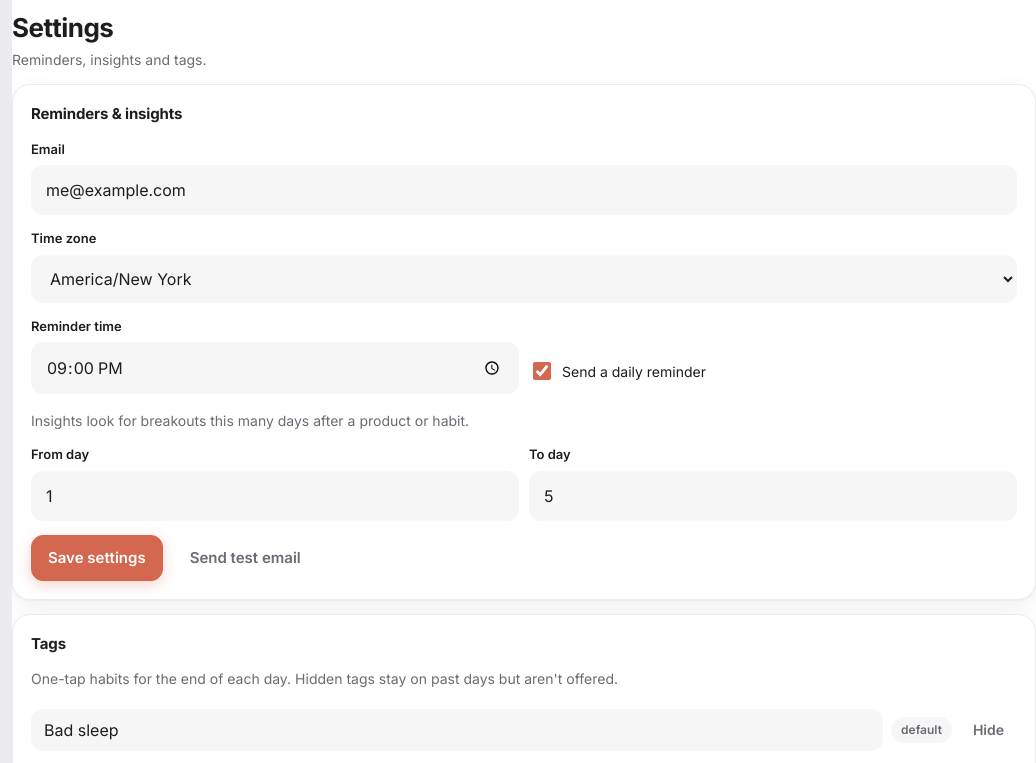
Test case: SettingsScreen reminders & insights › sends only what changed
The image size is (1036, 763).
Replace the text in the number field labelled "From day" with "2" at (275, 496), box top-left (31, 470), bottom-right (519, 520)
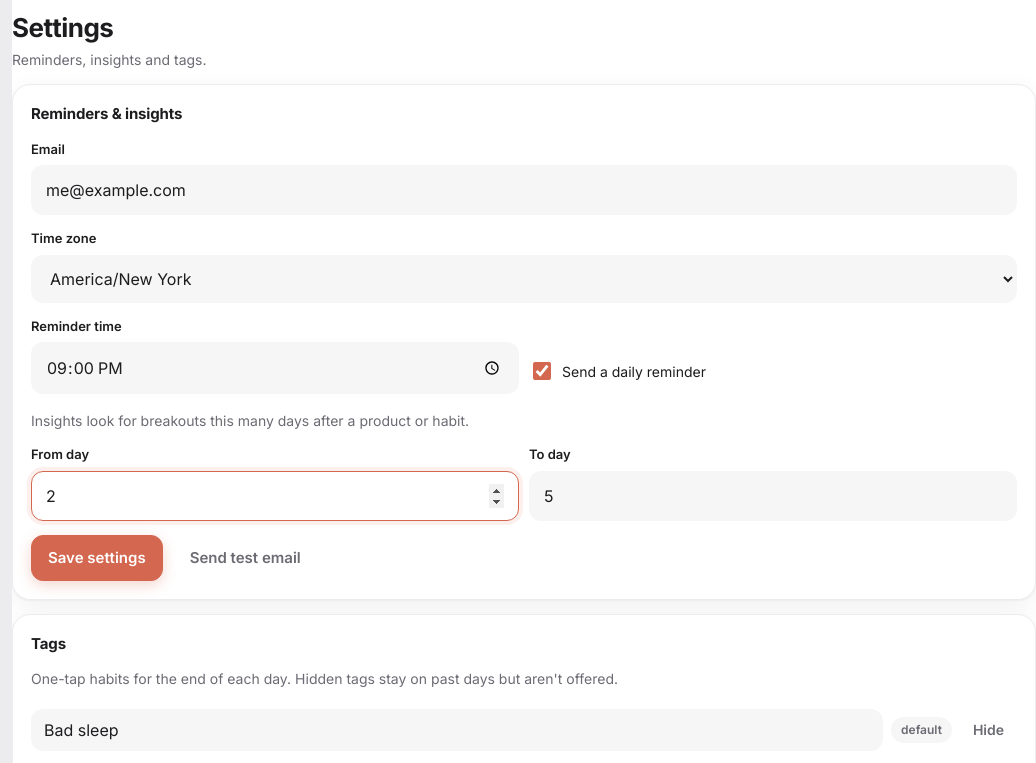
Replace the text in the number field labelled "To day" with "4" at (773, 496), box top-left (529, 470), bottom-right (1017, 520)
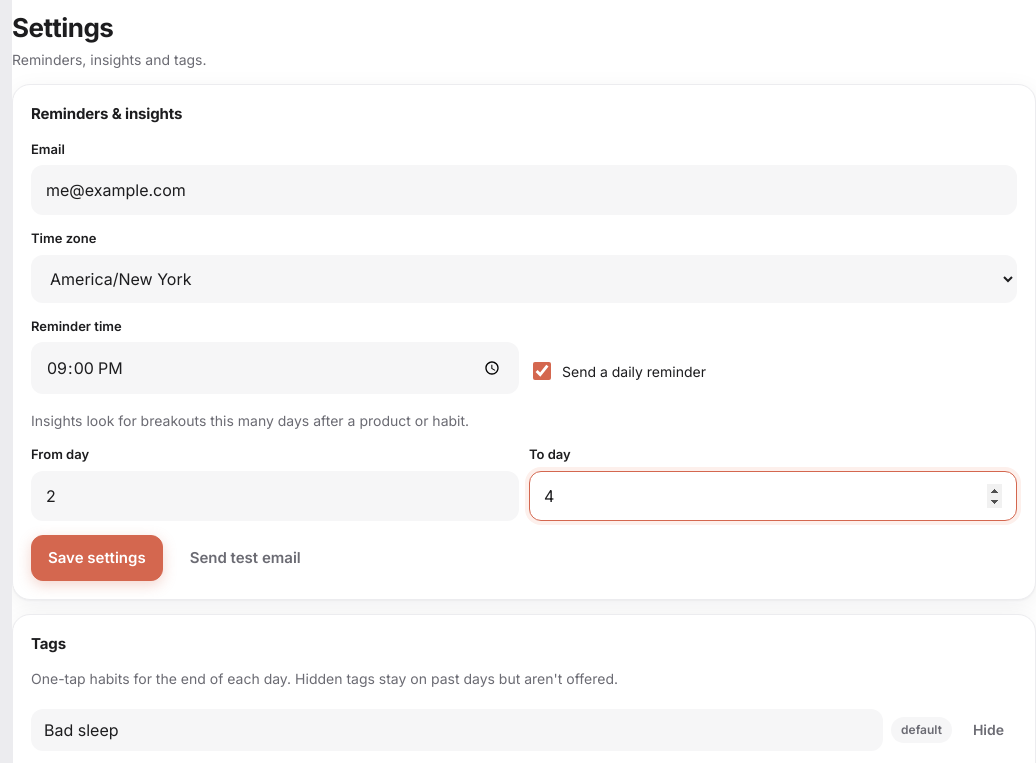
Click the button "Save settings" at (97, 558), box top-left (31, 534), bottom-right (163, 581)
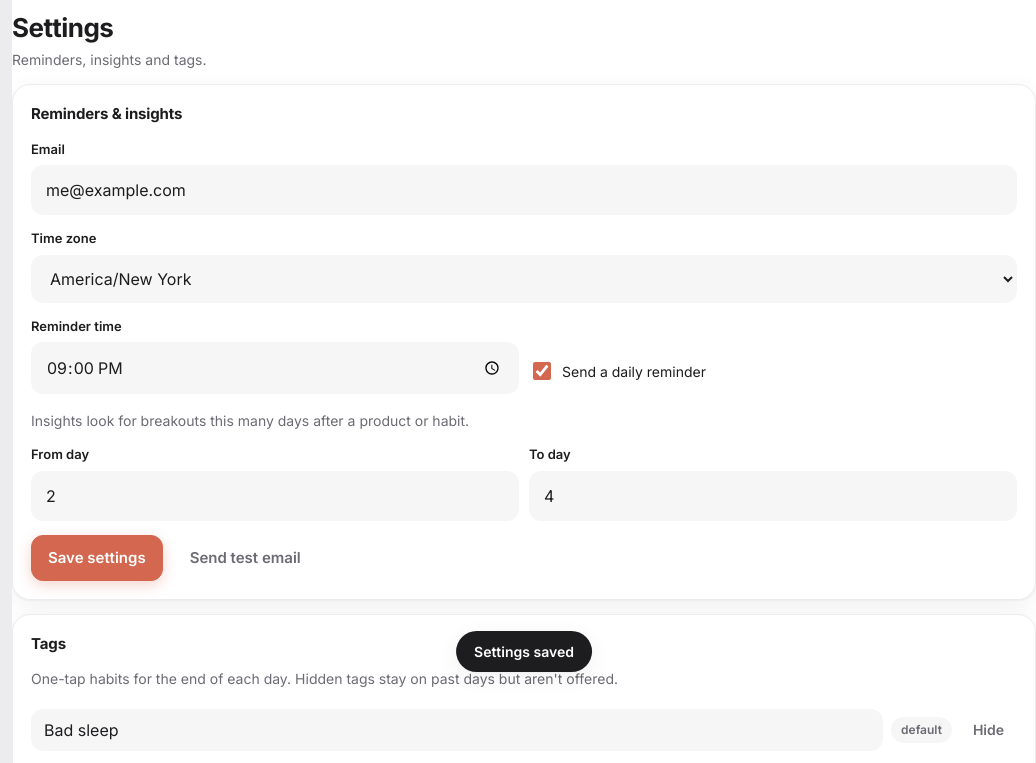
expect the text "Settings saved" is shown: met, box top-left (456, 631), bottom-right (592, 672)
